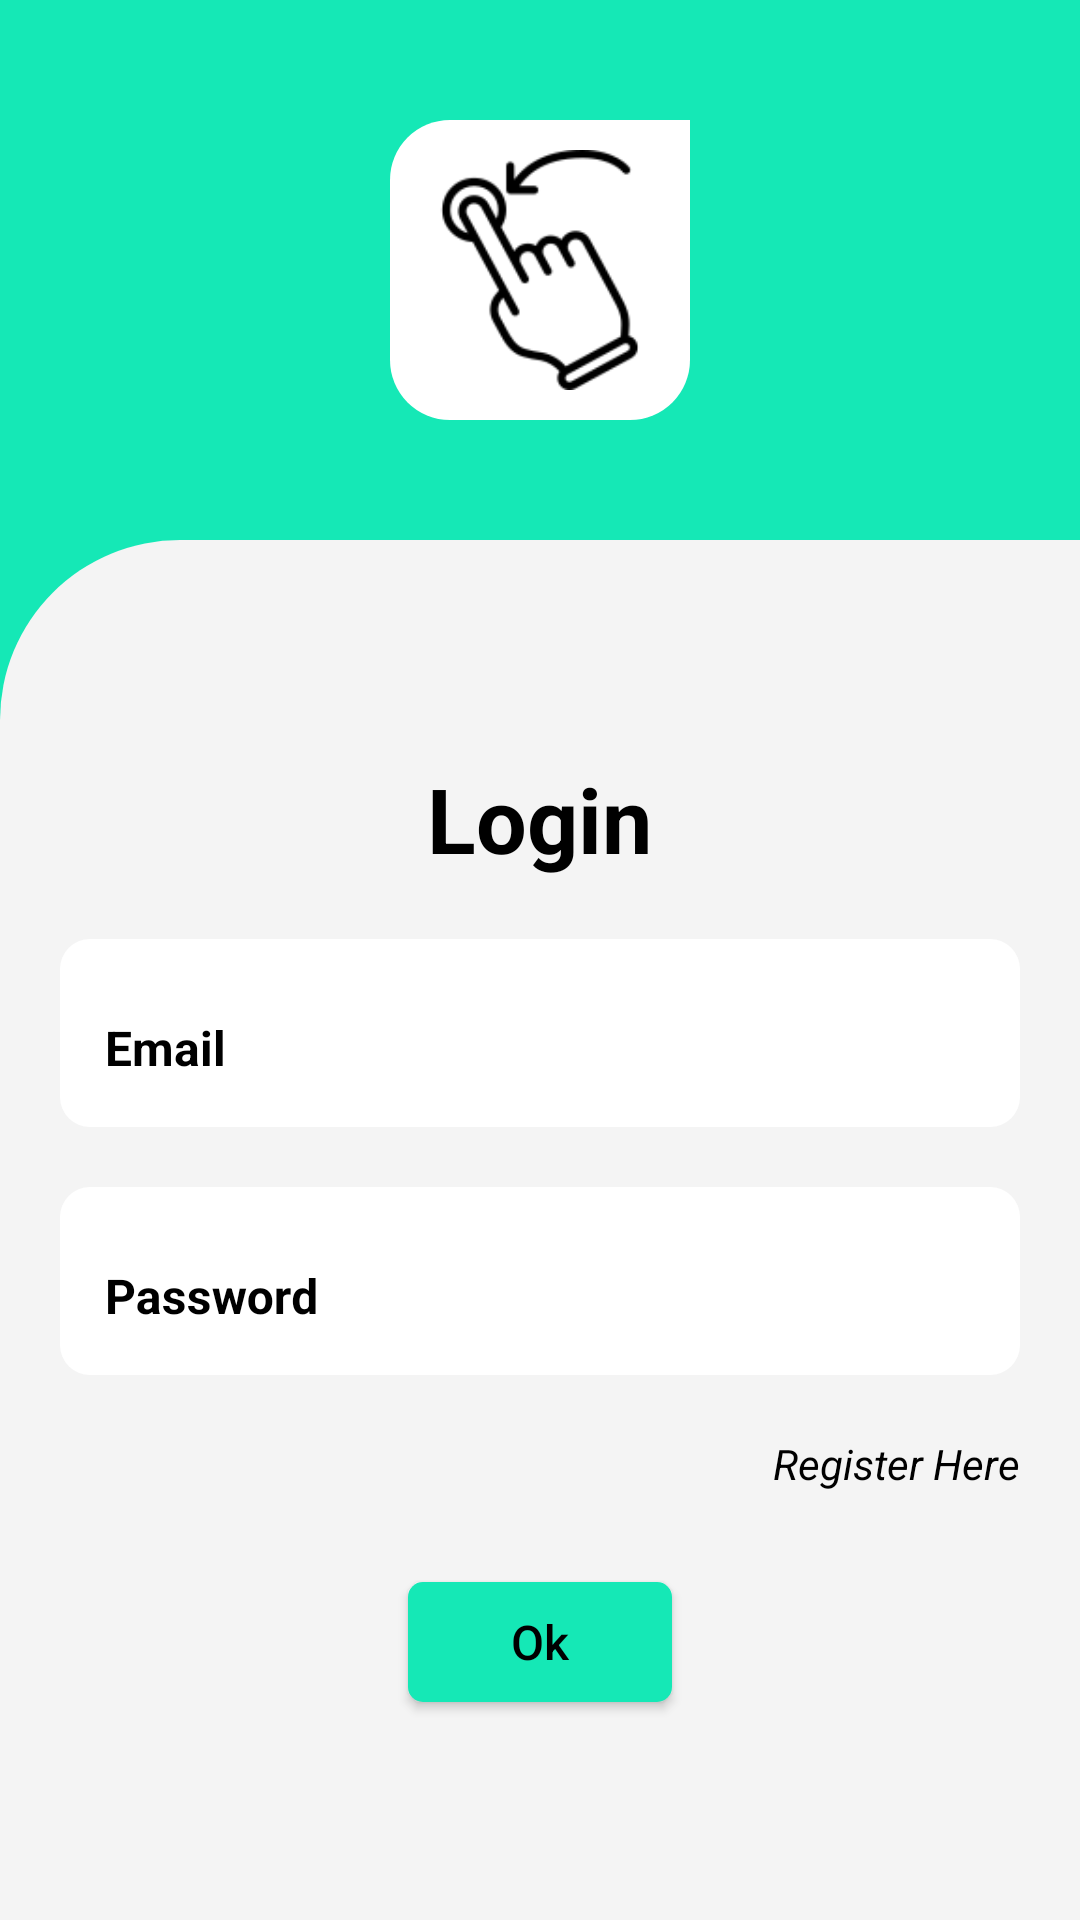

Screen size 1080px x 1920px. Icon name, then its box in pixels as (x1, y1, x2, y2):
app: (390, 120, 690, 420)
